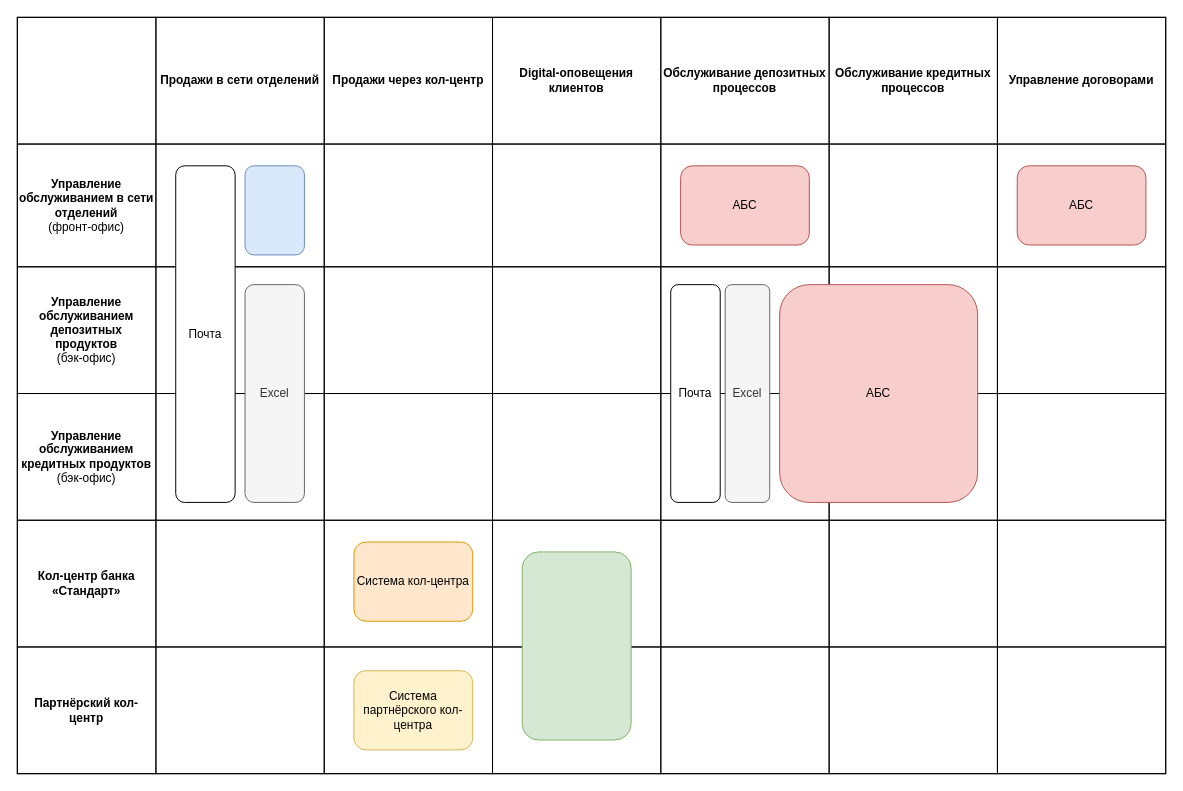
This 1183x791 diagram has some shape labels left out. The shapes that lost their labels are listed below. From the top down, each one's centre as x and y in pixels, then its label:
pixel 274 210: Интернет-банк
pixel 576 645: СМС-шлюз
